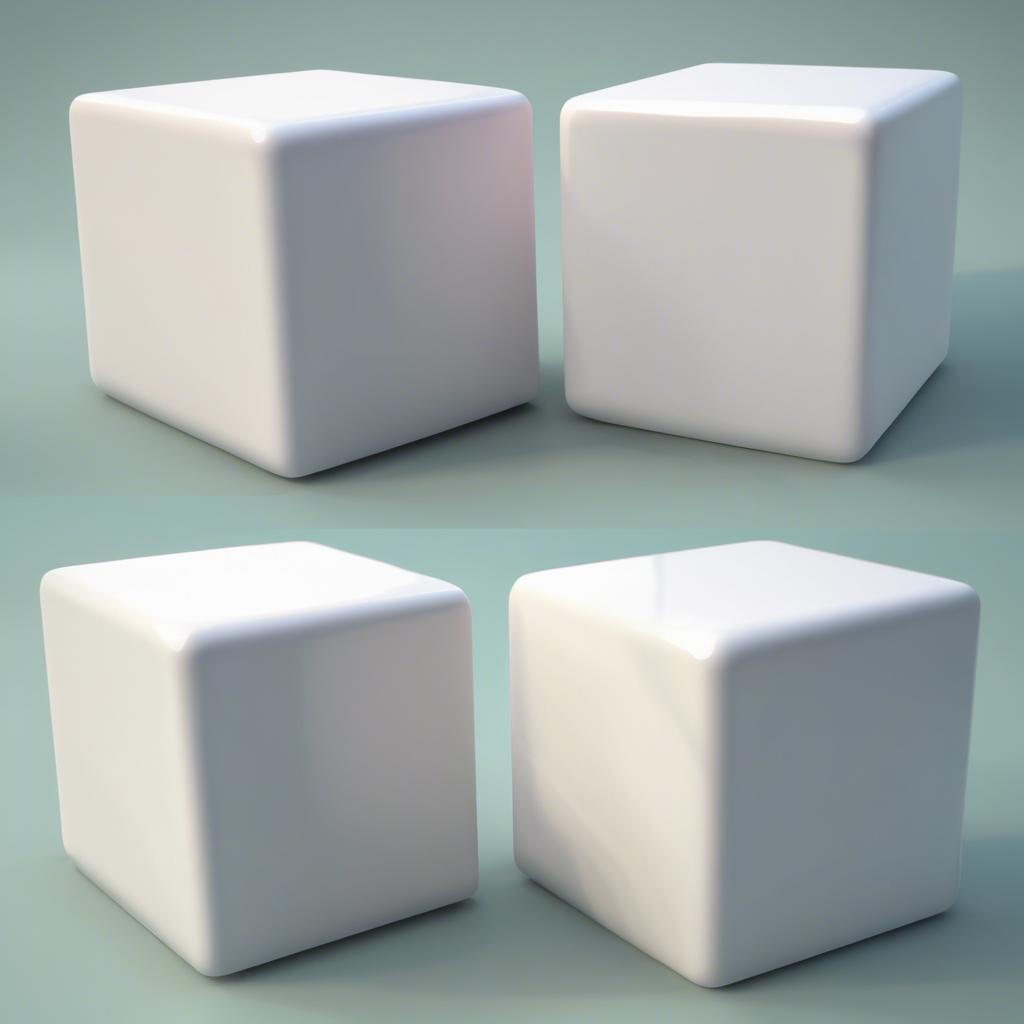cube: (507, 537, 980, 988), (67, 66, 540, 478), (38, 538, 479, 978), (558, 60, 962, 464)
